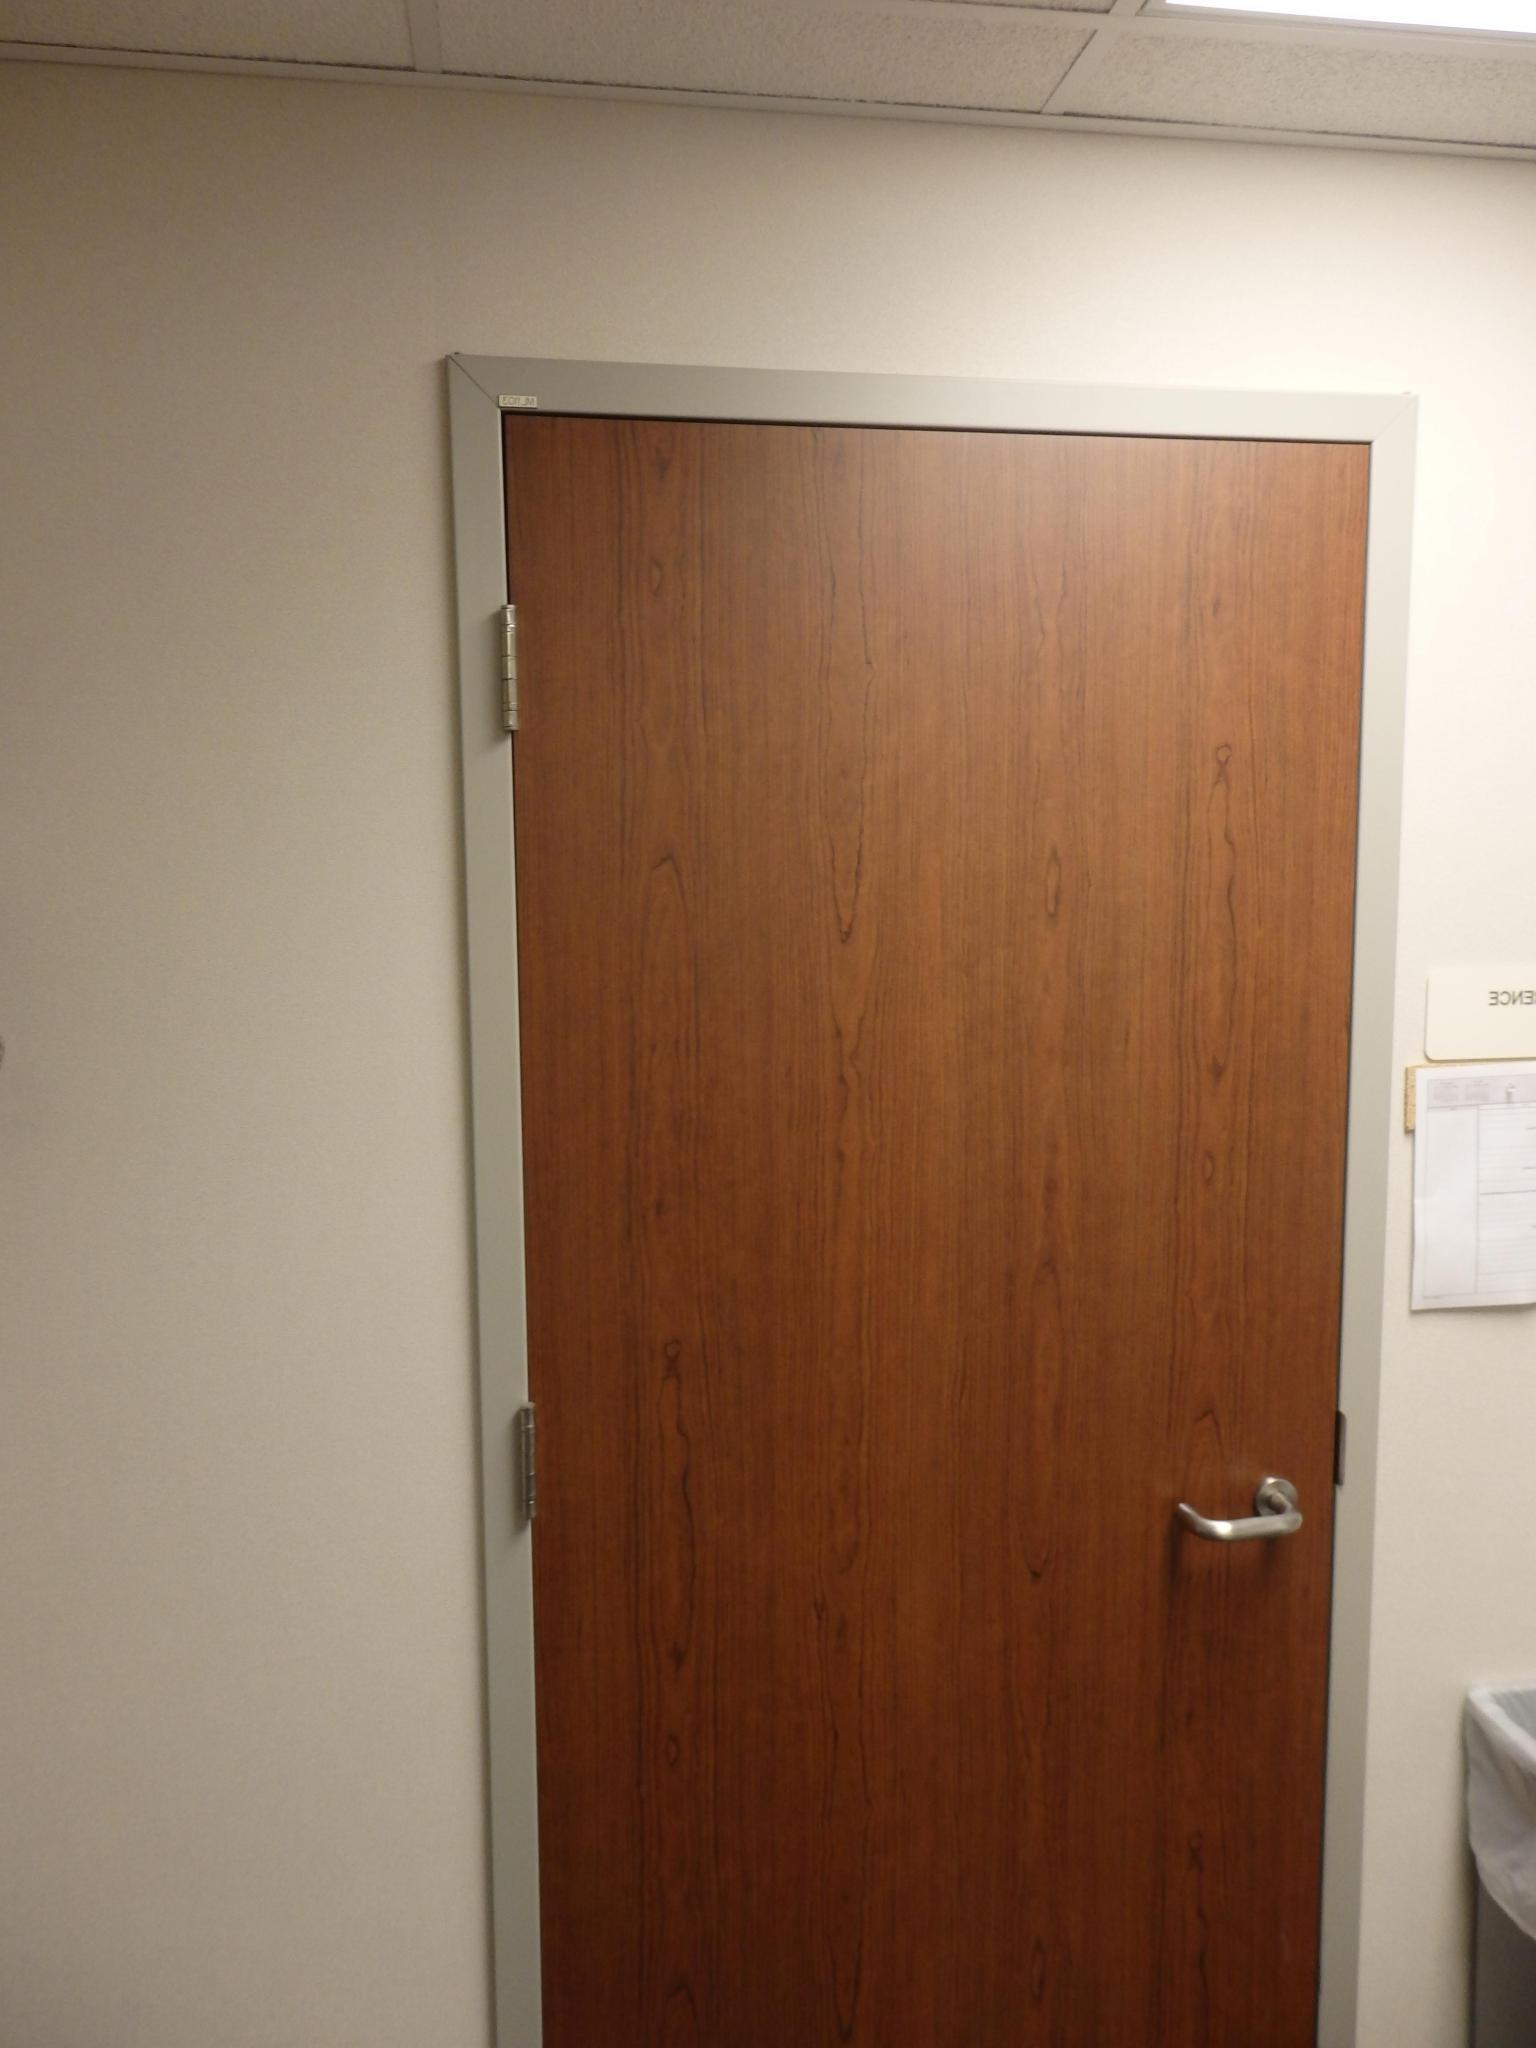door: (542, 453, 1350, 1993)
handle: (1162, 1445, 1310, 1584)
